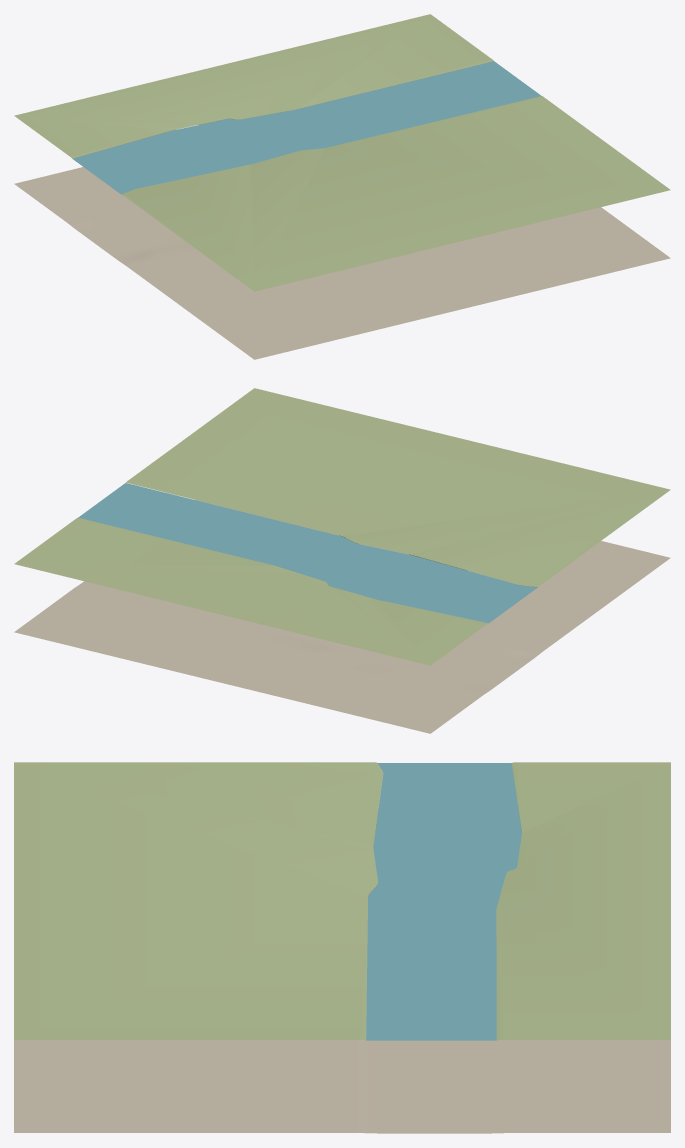
3 renders of one model, top to bottom at view 1: azimuth 30°, elevation 25°; view 2: azimuth 150°, elevation 25°; view 3: azimuth 270°, elevation 25°, orthographic. The views are drawn at different scales.
Visible parts, largest first — view 1: s_-2_6__grass, s_-2_6__soil, s_-2_6__water; view 2: s_-2_6__grass, s_-2_6__soil, s_-2_6__water; view 3: s_-2_6__grass, s_-2_6__soil, s_-2_6__water.
Part boxes in pixels (x1,y1,x2,y2): s_-2_6__grass: [14, 14, 670, 291]; s_-2_6__soil: [14, 167, 670, 359]; s_-2_6__water: [72, 61, 541, 194]; s_-2_6__grass: [14, 388, 670, 665]; s_-2_6__soil: [14, 500, 670, 733]; s_-2_6__water: [78, 483, 537, 623]; s_-2_6__grass: [14, 762, 670, 1040]; s_-2_6__soil: [14, 1040, 670, 1133]; s_-2_6__water: [366, 763, 521, 1040].
Bounding box in the file's own units: 128 × 20.14 × 128.
